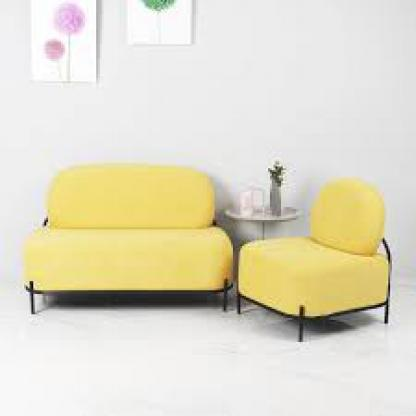sofa: (28, 161, 390, 333)
